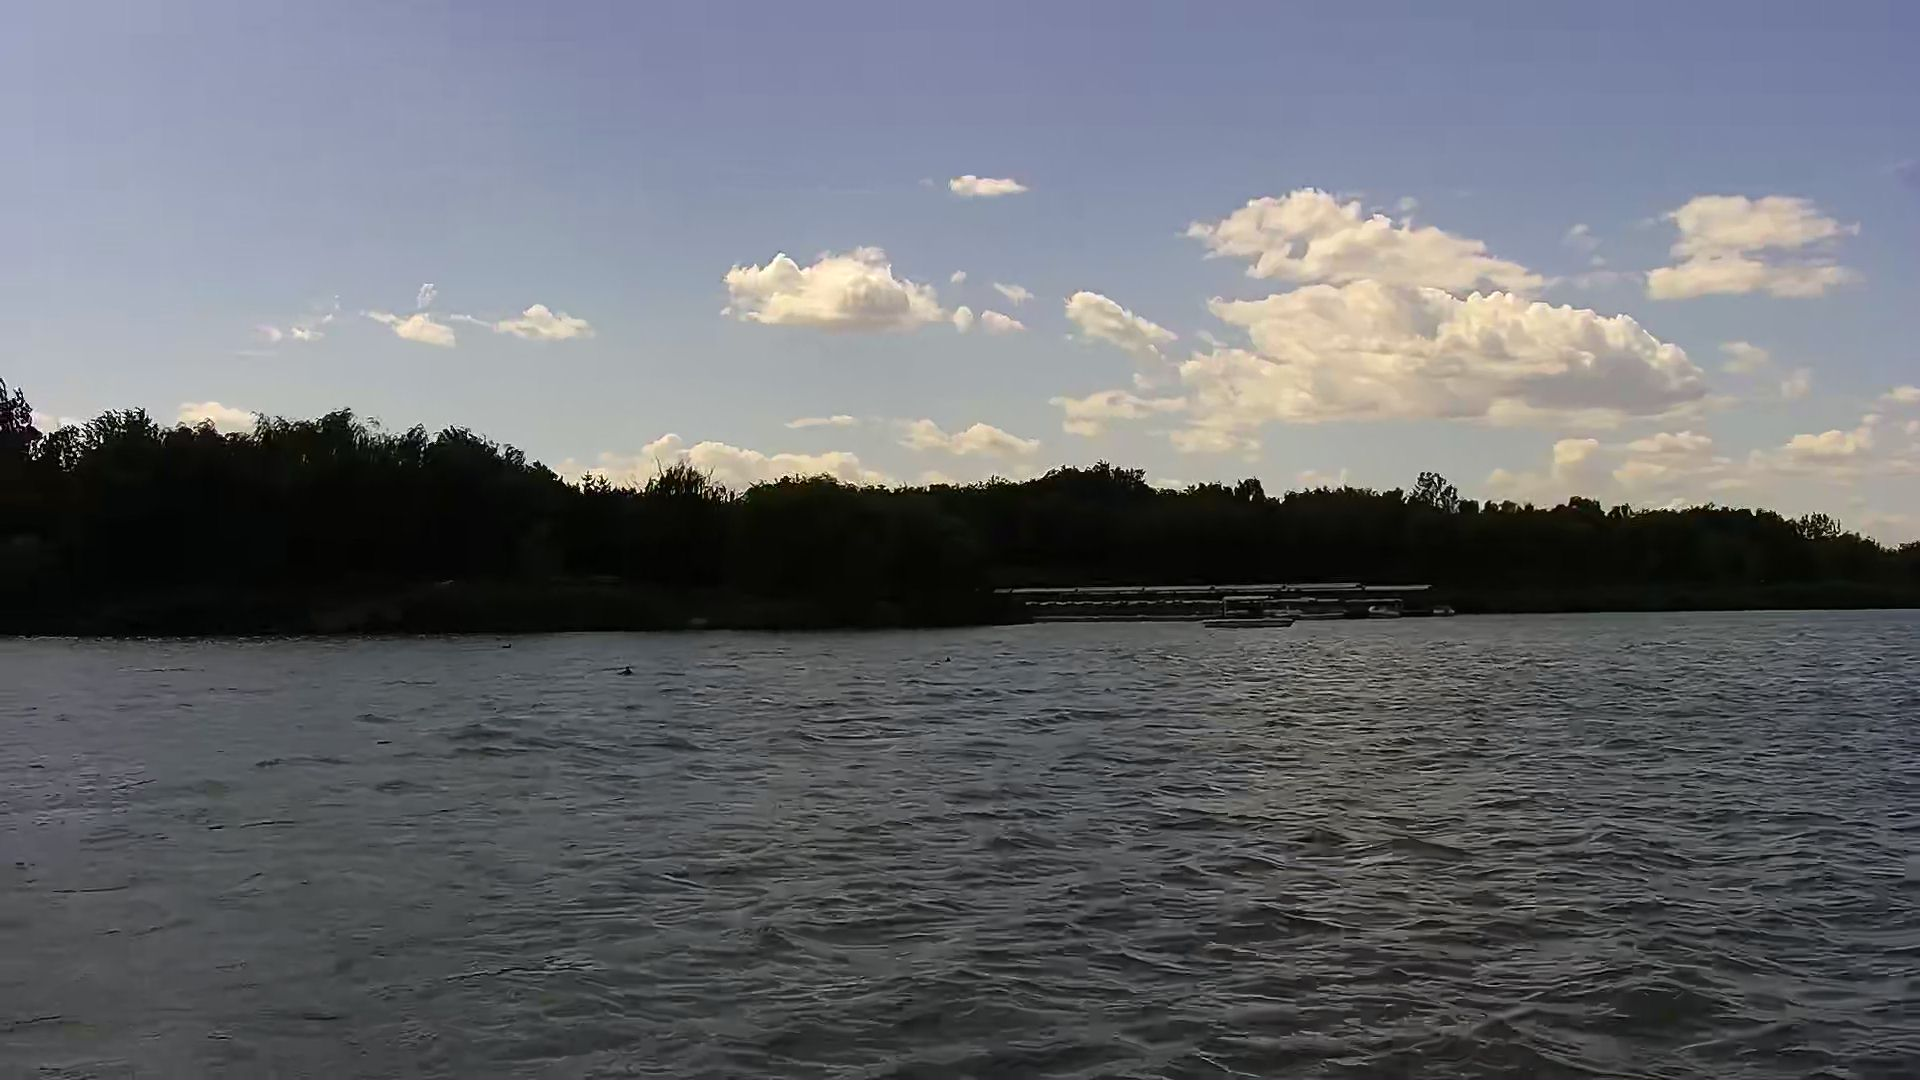boat: (1200, 591, 1300, 634)
harbor: (992, 580, 1455, 620)
